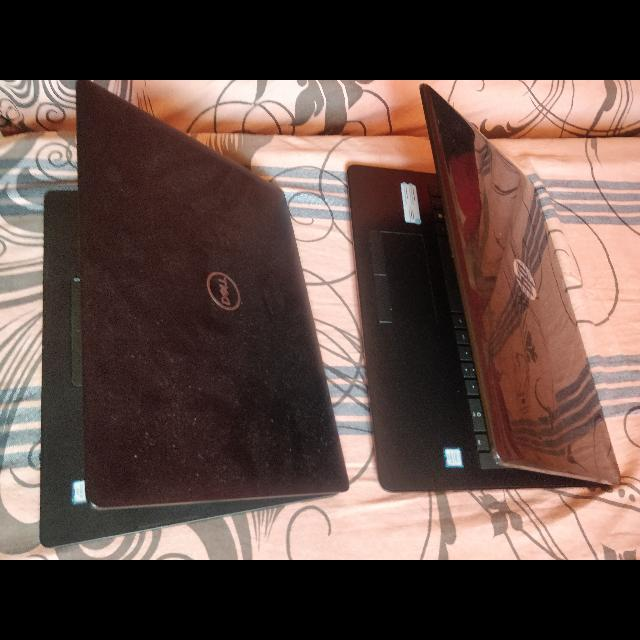Laptop: (36, 82, 357, 554), (340, 81, 640, 518)
